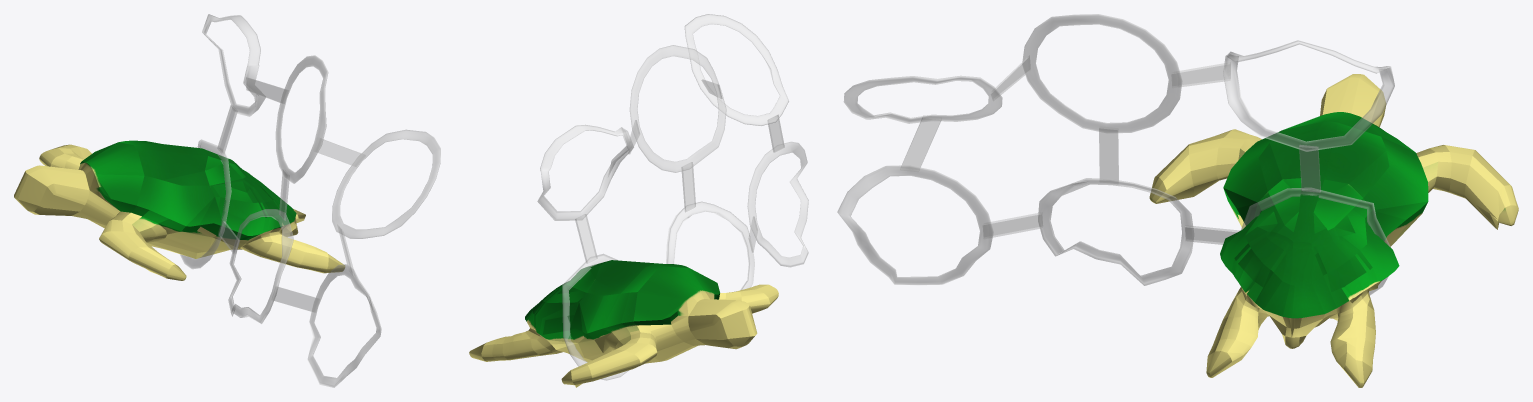
Rendered from 6packring(turtle).fbx.
3 views of the same model, side by side, from view 1: azimuth 30°, elevation 25°; view 2: azimuth 150°, elevation 25°; view 3: azimuth 270°, elevation 25° (orthographic). The views are drawn at different scales.
Visible parts, largest first — view 1: packrings:turtle, packrings:ring; view 2: packrings:turtle, packrings:ring; view 3: packrings:turtle, packrings:ring.
Boxes of the visible parts, bbox=[...] form: packrings:turtle: bbox=[14, 140, 345, 280]; packrings:ring: bbox=[180, 14, 440, 387]; packrings:turtle: bbox=[469, 260, 778, 387]; packrings:ring: bbox=[537, 14, 808, 380]; packrings:turtle: bbox=[1149, 74, 1518, 387]; packrings:ring: bbox=[837, 14, 1394, 295].
Size of the model in its own units: 17.72 by 15.13 by 28.8.
2 materials, 1 textured.
